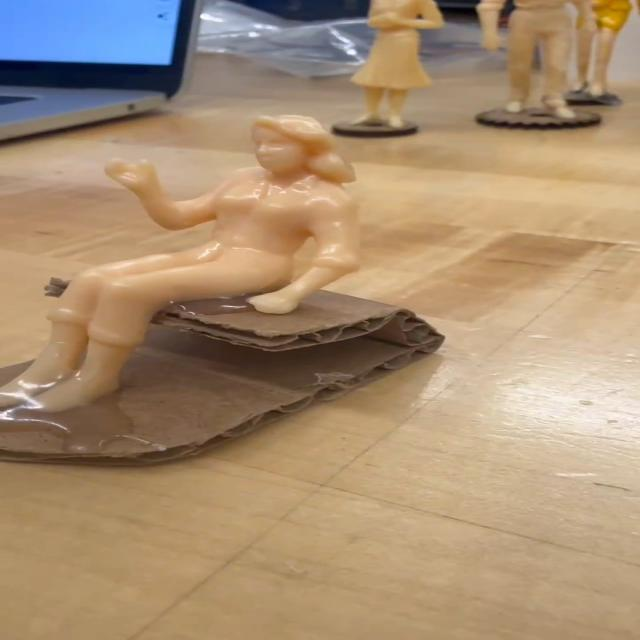Unauthorized: (0, 112, 414, 444)
